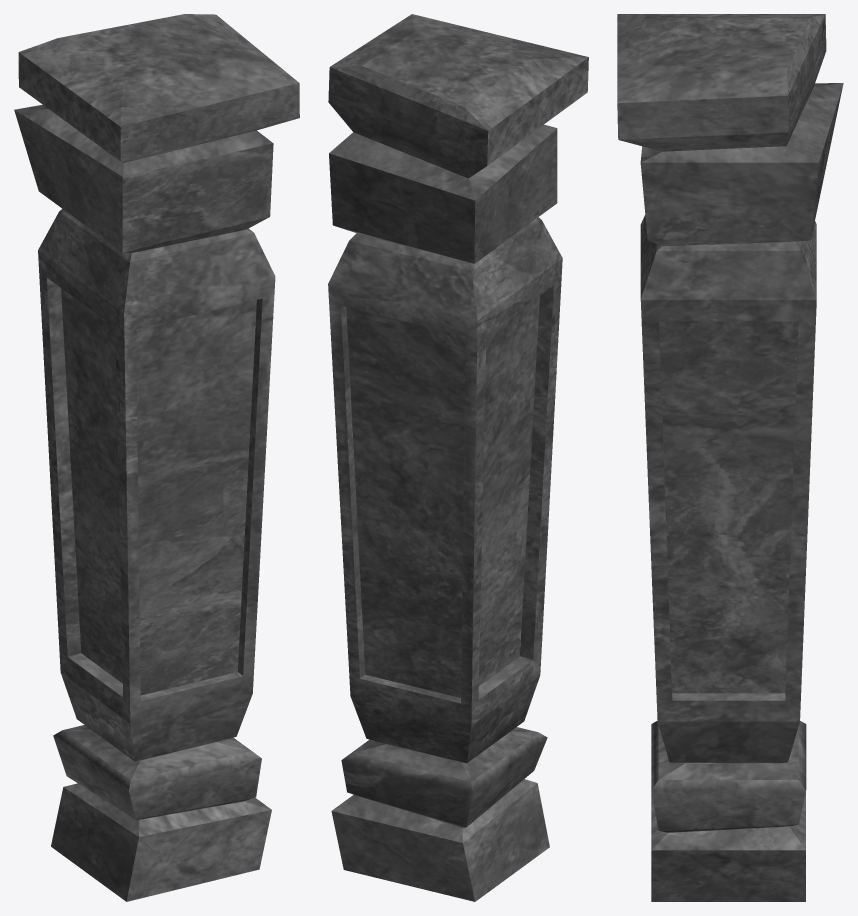
The model's file is Pillar2.FBX.
The picture shows the model from 3 angles, left to right: view 1: azimuth 30°, elevation 25°; view 2: azimuth 150°, elevation 25°; view 3: azimuth 270°, elevation 25°; orthographic projection. The views are drawn at different scales.
Visible parts, largest first — view 1: pCube1; view 2: pCube1; view 3: pCube1.
Boxes of the visible parts, <box> form: pCube1: <box>14,14,299,901</box>; pCube1: <box>328,14,588,901</box>; pCube1: <box>617,14,843,901</box>.
Size of the model in its own units: 84.41 by 363 by 90.07.
1 material, 1 textured.
